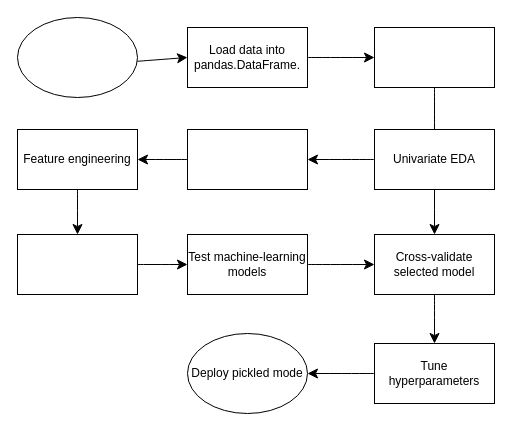
Image size: 512x431. Some labels were removed from this diagram. Here are the shapes that lost their labels. From the top down, the box of each, then its label:
(16, 16, 138, 98): START: JSON housing data
(374, 26, 494, 88): Clean data
(186, 128, 308, 190): Train-test split
(16, 234, 138, 294): Multivariate EDA
